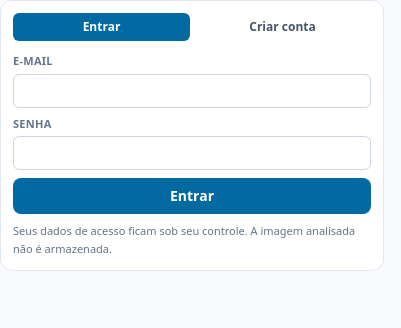
AuthPanel › exibe a mensagem do envelope de erro ao falhar o login
The image size is (401, 328).
Type "ana@clinica.com" into the field labelled "E-mail" at x=192, y=90, box [13,74,371,108]
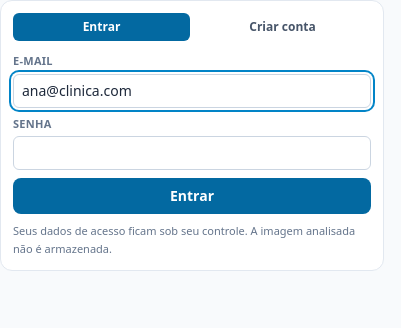
Type "segredo123" into the password field labelled "Senha" at x=192, y=153, box [13,136,371,170]
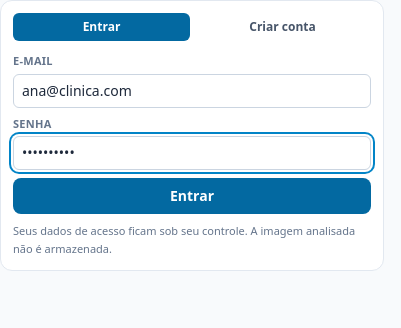
Click the button "Entrar" at x=192, y=196, box [13,178,371,214]
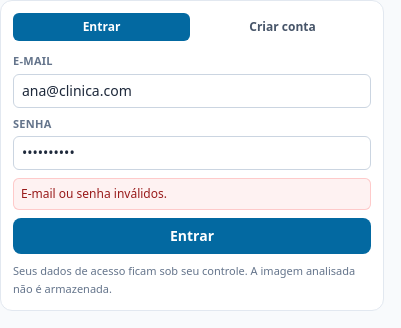
Check: the text "E-mail ou senha inválidos." is shown, box [13,178,371,210]
